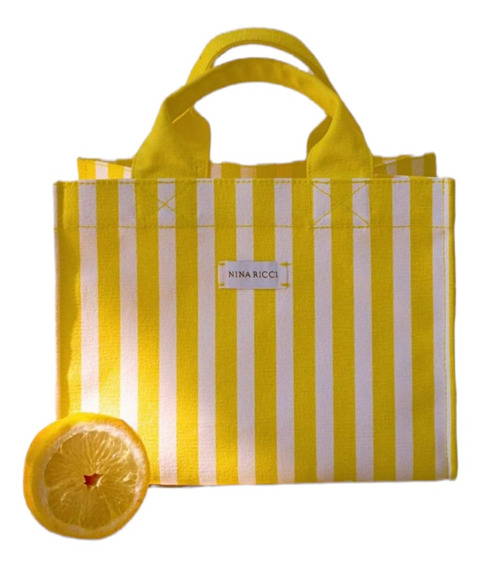cartera: (50, 26, 459, 487)
